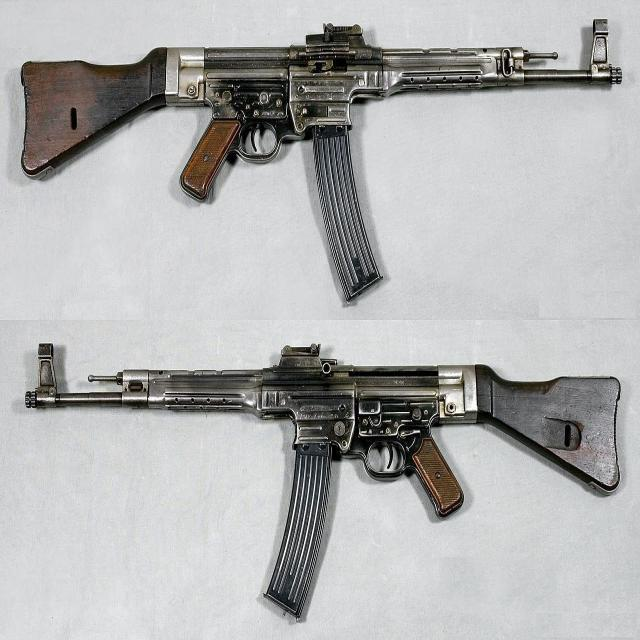rifle: (16, 11, 627, 308), (24, 336, 624, 622)
